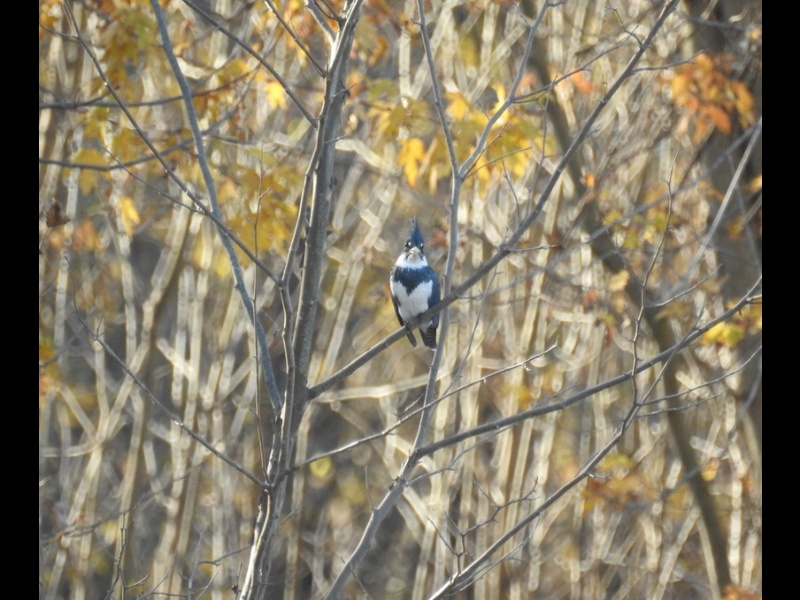kingfisher: (389, 218, 445, 351)
